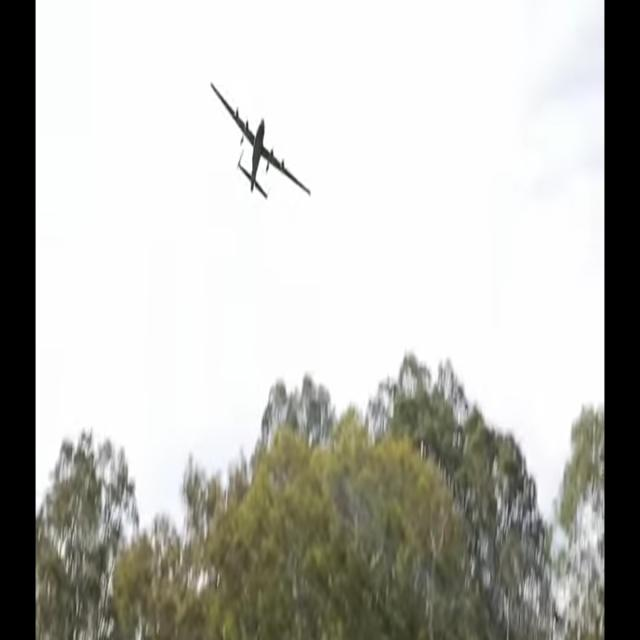iha: (242, 113, 279, 169)
